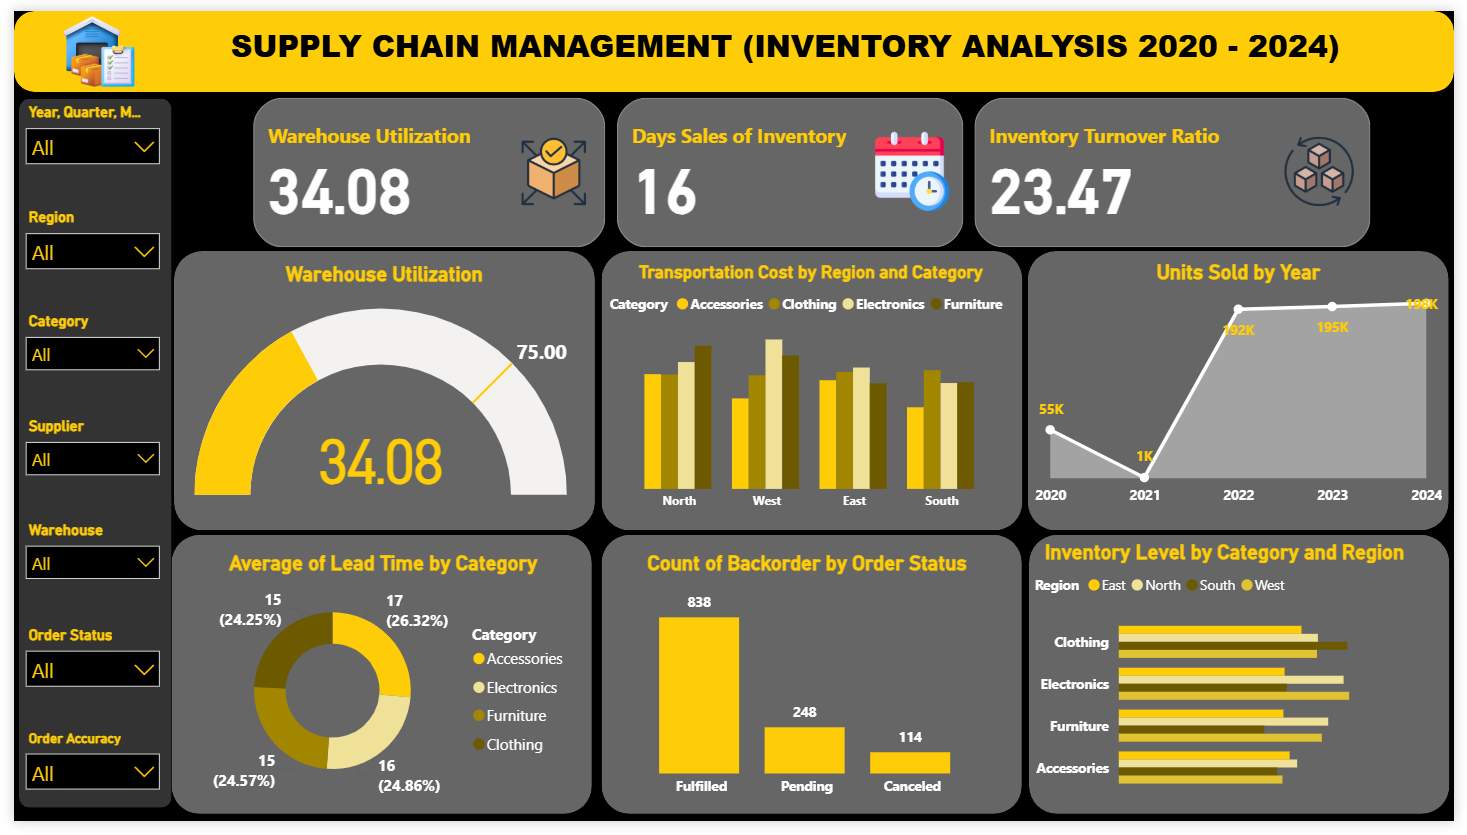

Layout of this report page (visuals, bound fields, positions):
{"tool":"powerbi","page":{"name":"INVENTORY PAGE","canvas":[1280,720],"ordinal":1},"visuals":[{"type":"slicer","fields":{"Values":["Inventory Supply Chain Dataset.Region"]},"box":[0,170.7,139.9,85.1],"z":0,"group":"g1"},{"type":"shape","box":[521.7,213,374.1,248.4],"z":0},{"type":"slicer","fields":{"Values":["Inventory Supply Chain Dataset.Date.Variation.Date Hierarchy.Year","Inventory Supply Chain Dataset.Date.Variation.Date Hierarchy.Quarter","Inventory Supply Chain Dataset.Date.Variation.Date Hierarchy.Month"]},"box":[0,77.9,139.9,85.1],"z":1000,"group":"g1"},{"type":"shape","box":[142.4,213,374.1,248.4],"z":1000},{"type":"shape","box":[0,0,1280,71.9],"z":2000},{"type":"slicer","fields":{"Values":["Inventory Supply Chain Dataset.Category"]},"box":[0,263.5,139.9,85.1],"z":2000,"group":"g1"},{"type":"image","box":[27.6,0,95.9,71.9],"z":3000},{"type":"slicer","fields":{"Values":["Inventory Supply Chain Dataset.Supplier"]},"box":[0,356.4,139.9,85.1],"z":3000,"group":"g1"},{"type":"shape","box":[4.3,77.9,135.6,630.5],"z":4000},{"type":"slicer","fields":{"Values":["Inventory Supply Chain Dataset.Warehouse"]},"box":[0,449.2,139.9,85.1],"z":4000,"group":"g1"},{"type":"textbox","box":[106.7,7.2,1157.8,56.3],"z":5000},{"type":"slicer","fields":{"Values":["Inventory Supply Chain Dataset.Order Status"]},"box":[0,542,139.9,85.1],"z":5000,"group":"g1"},{"type":"cardVisual","fields":{"Data":["Inventory Supply Chain Dataset.Warehouse Utilization"]},"box":[207.9,72.5,323.2,143.4],"z":6000},{"type":"slicer","fields":{"Values":["Inventory Supply Chain Dataset.Order Accuracy"]},"box":[0,634.8,139.9,85.1],"z":6000,"group":"g1"},{"type":"cardVisual","fields":{"Data":["Inventory Supply Chain Dataset.Days Sales of Inventory"]},"box":[531.1,72.5,318,143.4],"z":7000},{"type":"cardVisual","fields":{"Data":["Inventory Supply Chain Dataset.Inventory Turnover Ratio"]},"box":[849.1,72.5,362.7,143.4],"z":8000},{"type":"group","id":"g1","title":"Group 1","box":[0,77.9,139.9,642],"z":9000},{"type":"clusteredColumnChart","fields":{"Y":["Sum(Inventory Supply Chain Dataset.Transportation Cost)"],"Category":["Inventory Supply Chain Dataset.Region"],"Series":["Inventory Supply Chain Dataset.Category"]},"box":[524.8,223.4,367.9,229.7],"z":10000},{"type":"gauge","fields":{"Y":["Inventory Supply Chain Dataset.Warehouse Utilization"]},"box":[155.9,223.4,347.1,227.6],"z":11000},{"type":"shape","box":[901,213,374.1,248.4],"z":12000},{"type":"shape","box":[139.9,466,373.7,248.2],"z":13000},{"type":"lineChart","fields":{"Category":["Inventory Supply Chain Dataset.Date.Variation.Date Hierarchy.Year","Inventory Supply Chain Dataset.Date.Variation.Date Hierarchy.Quarter","Inventory Supply Chain Dataset.Date.Variation.Date Hierarchy.Month","Inventory Supply Chain Dataset.Date.Variation.Date Hierarchy.Day"],"Y":["Sum(Inventory Supply Chain Dataset.Units Sold)"]},"box":[901.7,220.7,372.2,228],"z":14000},{"type":"shape","box":[522.3,466,373.7,248.2],"z":15000},{"type":"shape","box":[901.7,466,373.7,248.2],"z":16000},{"type":"donutChart","fields":{"Y":["Avg(Inventory Supply Chain Dataset.Lead Time)"],"Category":["Inventory Supply Chain Dataset.Category"]},"box":[154.4,480.4,347.7,228],"z":17000},{"type":"columnChart","fields":{"Y":["CountNonNull(Inventory Supply Chain Dataset.Backorder)"],"Category":["Inventory Supply Chain Dataset.Order Status"]},"box":[530.9,480.4,347.7,228],"z":18000},{"type":"clusteredBarChart","fields":{"Category":["Inventory Supply Chain Dataset.Category"],"Series":["Inventory Supply Chain Dataset.Region"],"Y":["Sum(Inventory Supply Chain Dataset.Inventory Level)"]},"box":[901.7,470.3,347.7,238.1],"z":19000}]}

Visuals, with their boxes in screenshot pixels (x1, y1, x2, y2), scaled from the page's 1280x720 canvas onto the 1467x835 screenshot:
slicer - Inventory Supply Chain Dataset.Region: region(0, 198, 160, 297)
shape: region(598, 247, 1027, 535)
slicer - Inventory Supply Chain Dataset.Date.Variation.Date Hierarchy.Year x Inventory Supply Chain Dataset.Date.Variation.Date Hierarchy.Quarter: region(0, 90, 160, 189)
shape: region(163, 247, 592, 535)
shape: region(0, 0, 1466, 83)
slicer - Inventory Supply Chain Dataset.Category: region(0, 306, 160, 404)
image: region(32, 0, 142, 83)
slicer - Inventory Supply Chain Dataset.Supplier: region(0, 413, 160, 512)
shape: region(5, 90, 160, 822)
slicer - Inventory Supply Chain Dataset.Warehouse: region(0, 521, 160, 620)
textbox: region(122, 8, 1449, 74)
slicer - Inventory Supply Chain Dataset.Order Status: region(0, 629, 160, 727)
cardVisual - Inventory Supply Chain Dataset.Warehouse Utilization: region(238, 84, 609, 250)
slicer - Inventory Supply Chain Dataset.Order Accuracy: region(0, 736, 160, 834)
cardVisual - Inventory Supply Chain Dataset.Days Sales of Inventory: region(609, 84, 973, 250)
cardVisual - Inventory Supply Chain Dataset.Inventory Turnover Ratio: region(973, 84, 1389, 250)
"Group 1" group: region(0, 90, 160, 834)
clusteredColumnChart - Sum(Inventory Supply Chain Dataset.Transportation Cost) x Inventory Supply Chain Dataset.Region: region(601, 259, 1023, 525)
gauge - Inventory Supply Chain Dataset.Warehouse Utilization: region(179, 259, 576, 523)
shape: region(1033, 247, 1461, 535)
shape: region(160, 540, 589, 828)
lineChart - Inventory Supply Chain Dataset.Date.Variation.Date Hierarchy.Year x Inventory Supply Chain Dataset.Date.Variation.Date Hierarchy.Quarter: region(1033, 256, 1460, 520)
shape: region(599, 540, 1027, 828)
shape: region(1033, 540, 1462, 828)
donutChart - Avg(Inventory Supply Chain Dataset.Lead Time) x Inventory Supply Chain Dataset.Category: region(177, 557, 575, 822)
columnChart - CountNonNull(Inventory Supply Chain Dataset.Backorder) x Inventory Supply Chain Dataset.Order Status: region(608, 557, 1007, 822)
clusteredBarChart - Inventory Supply Chain Dataset.Category x Inventory Supply Chain Dataset.Region: region(1033, 545, 1432, 822)
